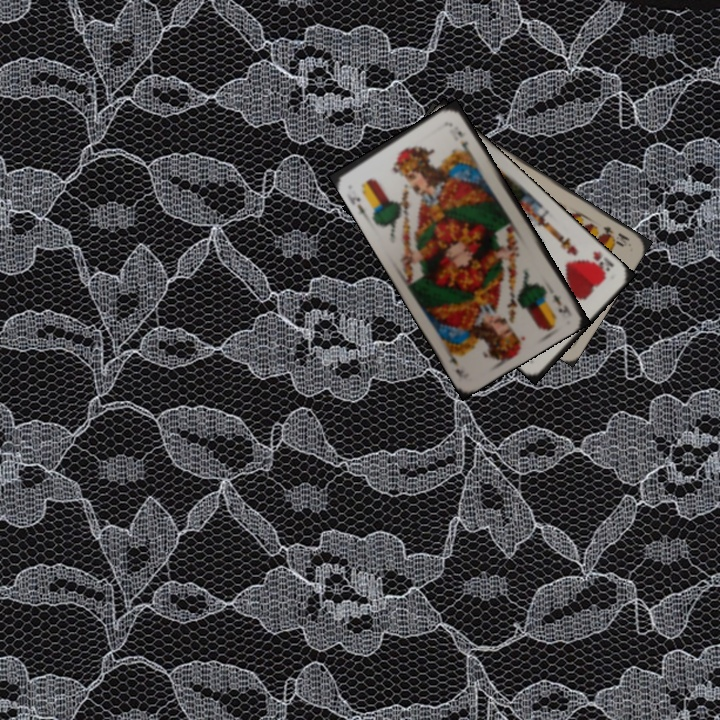E10: (598, 222, 633, 249)
EK: (344, 190, 370, 219), (549, 291, 572, 316)
HK: (583, 247, 616, 280)
